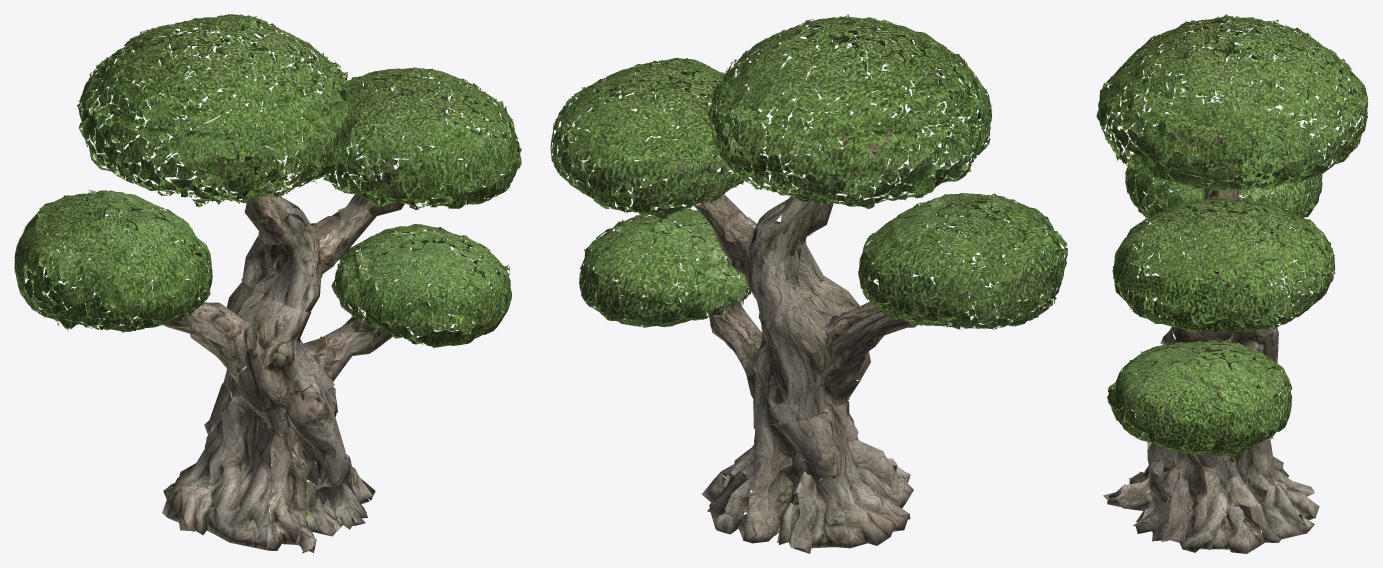
File: olivier.glb
The picture shows the model from 3 angles, left to right: view 1: azimuth 30°, elevation 25°; view 2: azimuth 150°, elevation 25°; view 3: azimuth 270°, elevation 25°; orthographic projection. The views are drawn at different scales.
Visible parts, largest first — view 1: Mesh_0; view 2: Mesh_0; view 3: Mesh_0.
Boxes of the visible parts, bbox=[...] form: Mesh_0: bbox=[14, 14, 521, 553]; Mesh_0: bbox=[550, 14, 1067, 553]; Mesh_0: bbox=[1096, 14, 1368, 553].
Bounding box in the file's own units: 1.89 × 1.84 × 0.9767.
1 material, 1 textured.
